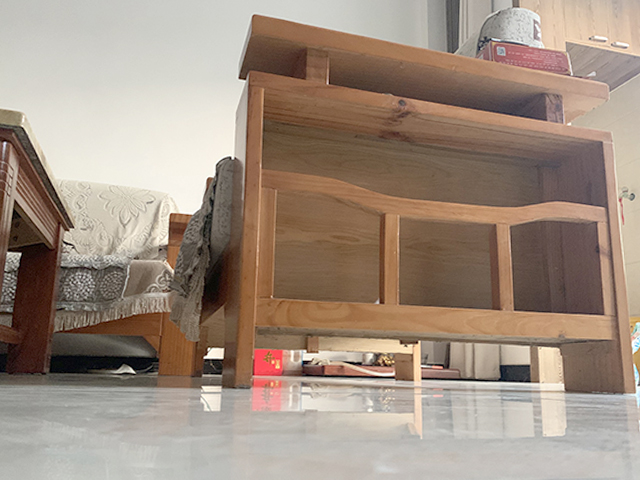sofa: (167, 12, 639, 396), (55, 177, 204, 376)
table: (1, 108, 75, 377)
